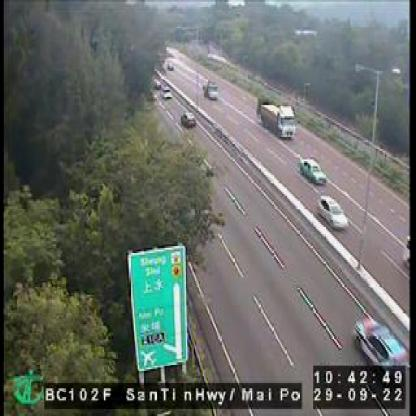Car: (338, 314, 404, 372), (316, 192, 351, 236), (297, 154, 330, 186), (202, 73, 224, 102), (176, 111, 198, 130), (160, 85, 174, 100)
Truck: (252, 94, 295, 140)
